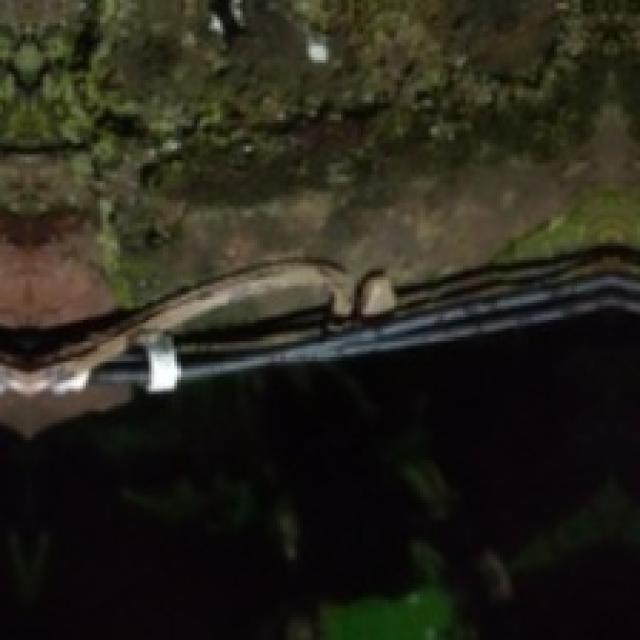dog-toothed cat snake: (0, 258, 395, 394)
